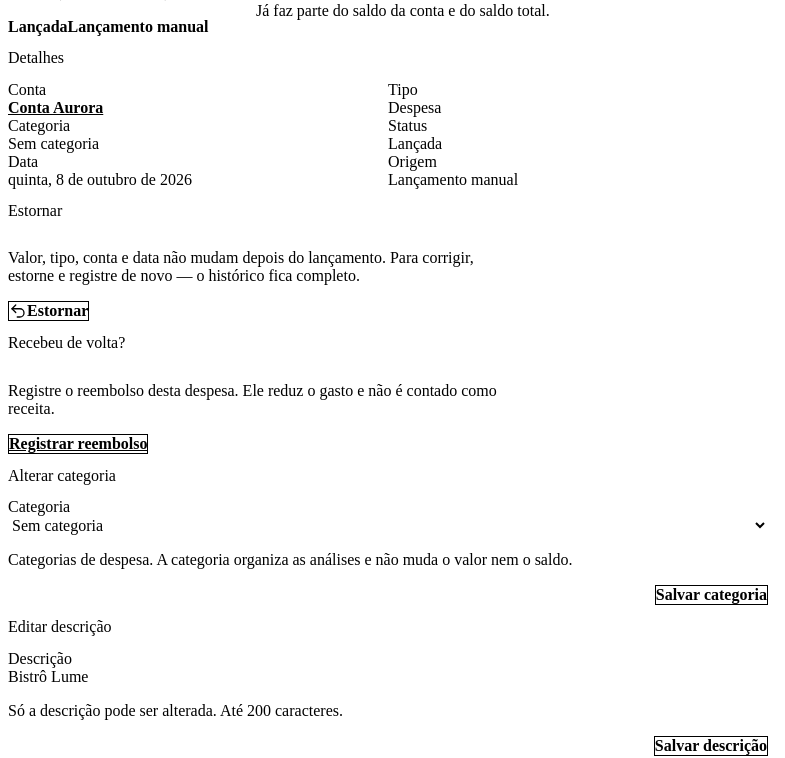
Test: /transactions/{id} — detalhe e ações › edita só a descrição
The width and height of the screenshot is (785, 758).
(page scrolled)
Replace the text in the field labelled "Descrição" with "  Jantar  ": (388, 677) x1=8 y1=668 x2=768 y2=686
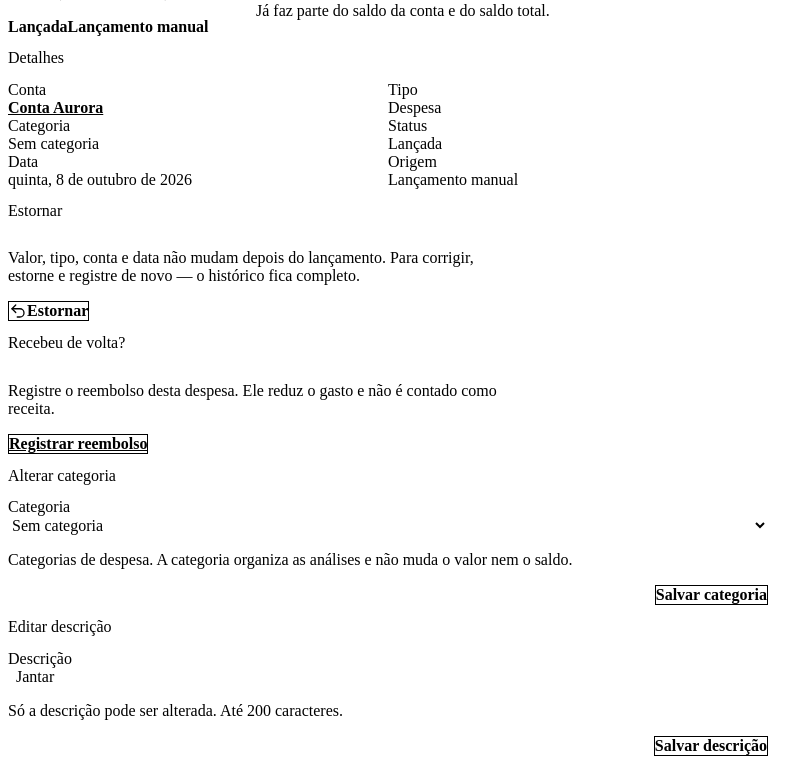
Click the button "Salvar descrição": click(711, 746) x1=654 y1=736 x2=768 y2=756
(page scrolled)
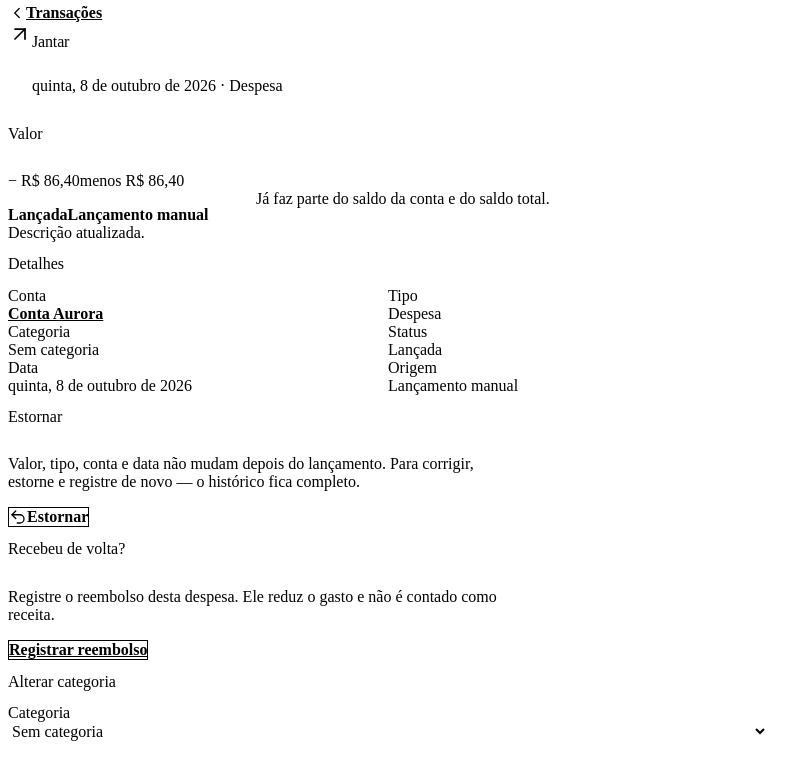
Expected: the text "Descrição atualizada." is shown, x1=8 y1=224 x2=145 y2=241
Expected: the heading "Jantar" is shown, x1=32 y1=33 x2=69 y2=50
